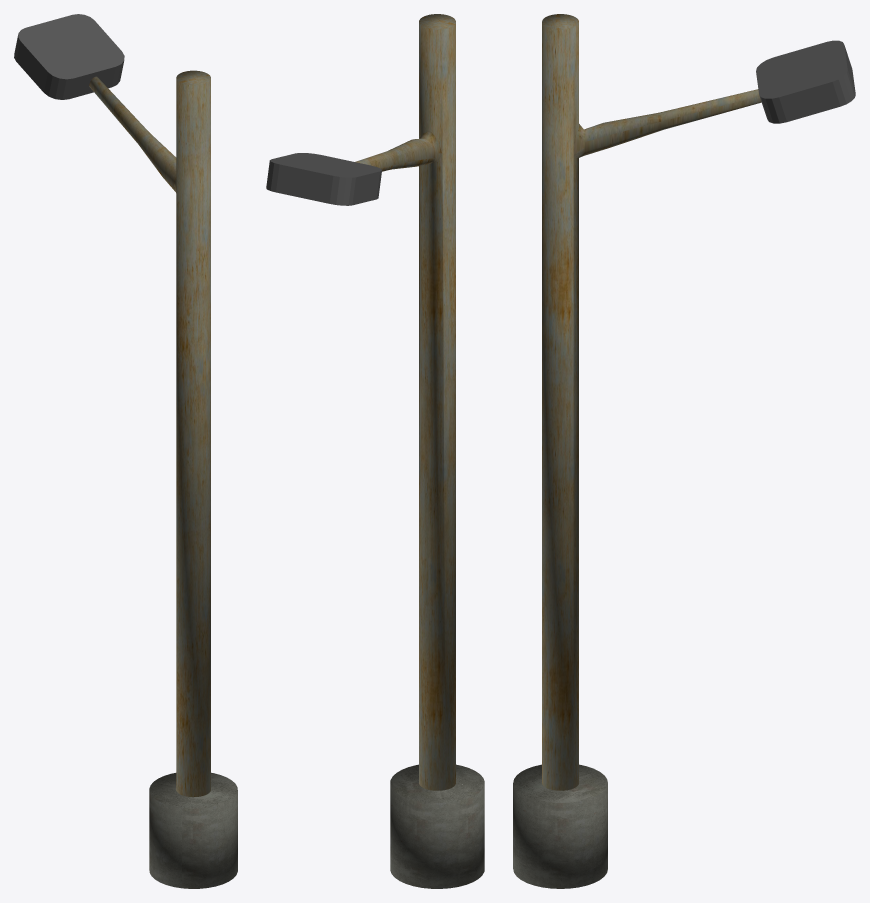
Rendered from StreetLights(Indain).fbx.
3 renders of one model, left to right at view 1: azimuth 30°, elevation 25°; view 2: azimuth 150°, elevation 25°; view 3: azimuth 270°, elevation 25°, orthographic. The views are drawn at different scales.
Parts seen in each view (by area): view 1: Mteal_Pole, pole_base, Cube.001; view 2: Mteal_Pole, pole_base, Cube.001; view 3: Mteal_Pole, pole_base, Cube.001.
Boxes of the visible parts, x1,y1,x2,y2 form: Mteal_Pole: (89,70,210,797); pole_base: (149,772,237,888); Cube.001: (14,14,124,99); Mteal_Pole: (355,14,455,790); pole_base: (390,764,484,888); Cube.001: (266,153,381,205); Mteal_Pole: (542,14,761,790); pole_base: (513,764,607,888); Cube.001: (756,40,855,123).
Size of the model in its own units: 227 by 722 by 1971.
Materials: 4 (2 with a texture image).
